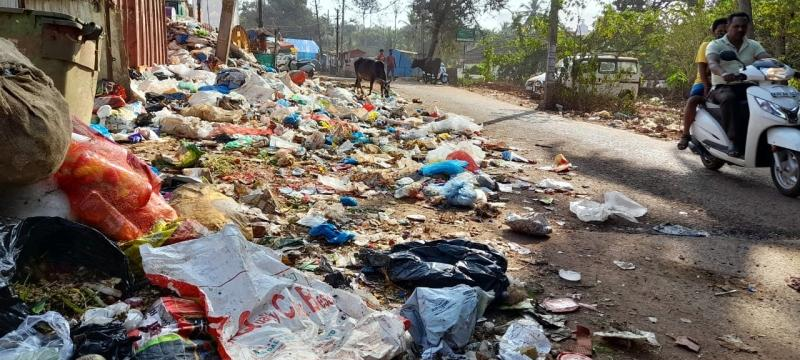road: (398, 81, 800, 359)
trash: (188, 70, 450, 234), (142, 220, 406, 359), (55, 119, 178, 241), (0, 38, 72, 185), (17, 217, 133, 295), (359, 239, 509, 296), (398, 284, 492, 359), (0, 311, 73, 359), (70, 322, 133, 359), (498, 317, 552, 360), (134, 333, 218, 360), (425, 141, 486, 164), (441, 178, 478, 207), (505, 214, 552, 235), (419, 161, 467, 176), (447, 150, 480, 171)
